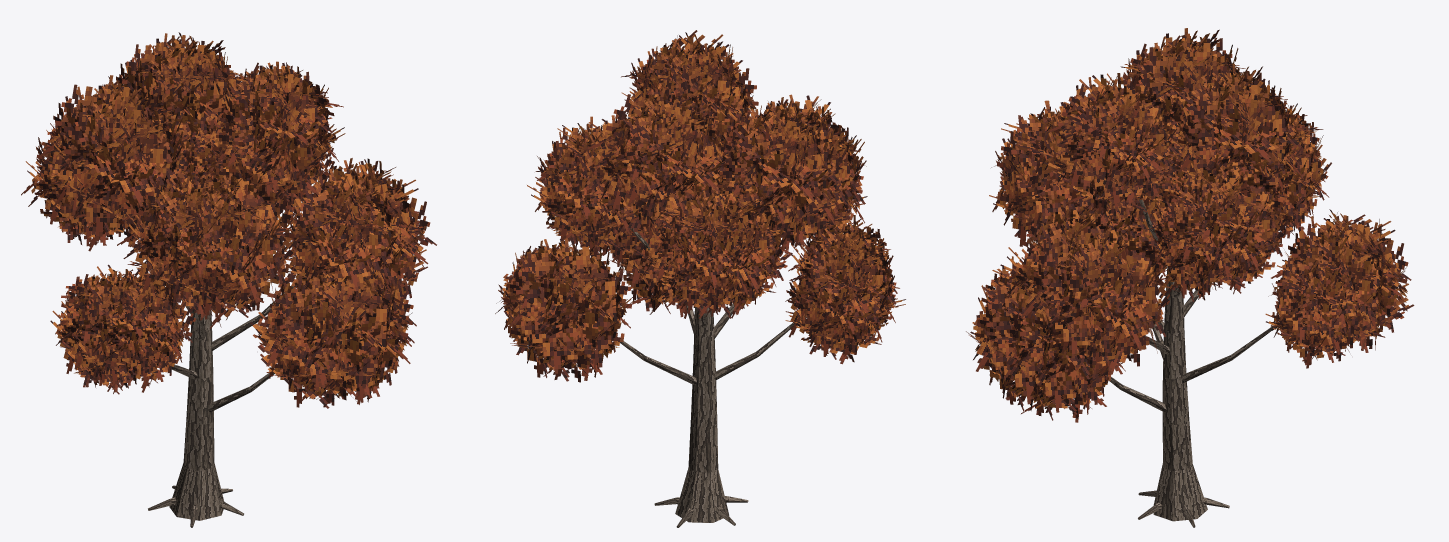
The model's file is TREE_Maple_Autumn_A.glb.
3 views of the same model, side by side, from view 1: azimuth 30°, elevation 25°; view 2: azimuth 150°, elevation 25°; view 3: azimuth 270°, elevation 25° (orthographic). The views are drawn at different scales.
Parts seen in each view (by area): view 1: TREE_Maple_Autumn_A__Card, TREE_Maple_Autumn_A__Bark; view 2: TREE_Maple_Autumn_A__Card, TREE_Maple_Autumn_A__Bark; view 3: TREE_Maple_Autumn_A__Card, TREE_Maple_Autumn_A__Bark.
Boxes of the visible parts, x1,y1,x2,y2 form: TREE_Maple_Autumn_A__Card: (21, 32, 436, 408); TREE_Maple_Autumn_A__Bark: (148, 286, 294, 527); TREE_Maple_Autumn_A__Card: (495, 30, 905, 382); TREE_Maple_Autumn_A__Bark: (620, 228, 806, 527); TREE_Maple_Autumn_A__Card: (966, 28, 1414, 422); TREE_Maple_Autumn_A__Bark: (1096, 196, 1278, 527).
Bounding box in the file's own units: 9.38 × 10.79 × 10.44.
Materials: 3 (3 with a texture image).
